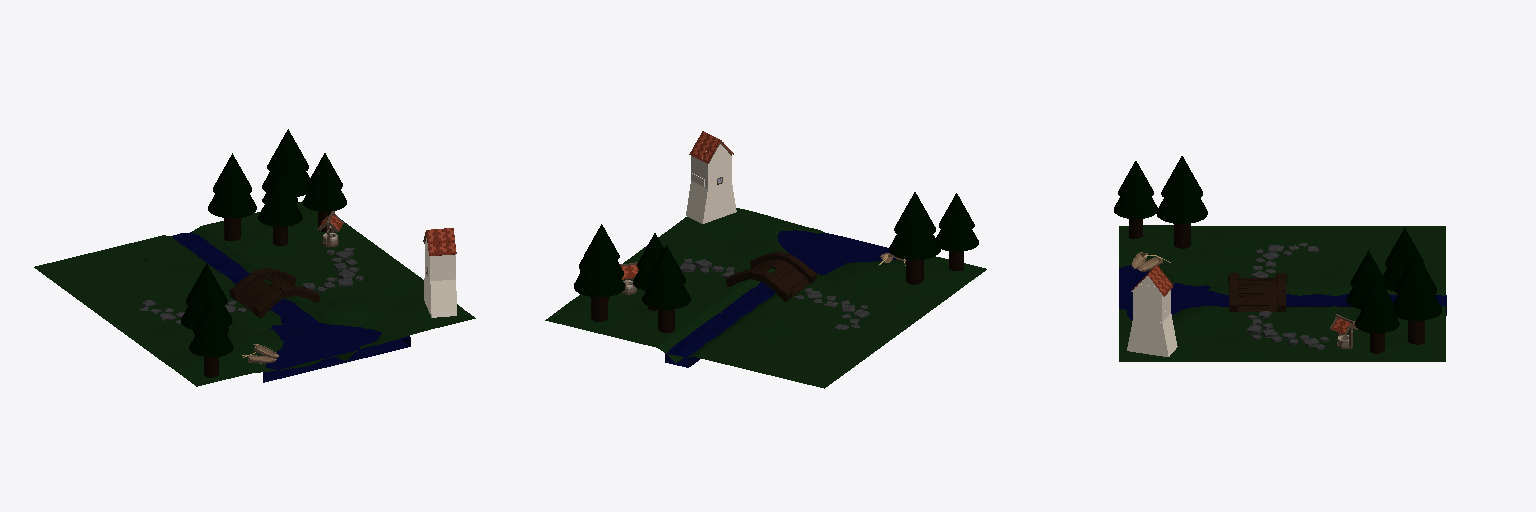
Rendered from hakoniwa.obj.
3 renders of one model, left to right at view 1: azimuth 30°, elevation 25°; view 2: azimuth 150°, elevation 25°; view 3: azimuth 270°, elevation 25°, orthographic.
Parts seen in each view (by area): view 1: pPlane1, pCube1, bridge:Mesh, fusya2:group2 group12 fusya2:Stucco_Block:object1, group4 pCone2, group11 pCone2, group2 pCone2, group2 pCone1, group8 pCone2, group10 pCone2, group3 pCone2, group3 pCone1 (+3 smaller); view 2: pPlane1, pCube1, bridge:Mesh, fusya2:group2 group12 fusya2:Stucco_Block:object1, group4 pCone2, group11 pCone2, group11 pCone1, group4 pCone1, group2 pCone2, group2 pCone1, group10 pCone2, fusya2:group2 group12 fusya2:object1 (+2 smaller); view 3: pPlane1, pCube1, bridge:Mesh, fusya2:group2 group12 fusya2:Stucco_Block:object1, group4 pCone2, group11 pCone2, group11 pCone1, group4 pCone1, group8 pCone2, group10 pCone2, group2 pCone2, group10 pCone1 (+3 smaller).
Boxes of the visible parts, <box> form: pPlane1: <box>34,201,475,386</box>; pCube1: <box>172,232,410,382</box>; bridge:Mesh: <box>229,268,319,317</box>; fusya2:group2 group12 fusya2:Stucco_Block:object1: <box>424,270,456,317</box>; group4 pCone2: <box>267,129,308,175</box>; group11 pCone2: <box>186,263,227,309</box>; group2 pCone2: <box>213,153,251,197</box>; group2 pCone1: <box>208,194,256,217</box>; group8 pCone2: <box>307,153,342,192</box>; group10 pCone2: <box>193,298,228,338</box>; group3 pCone2: <box>262,168,297,207</box>; group3 pCone1: <box>258,205,302,226</box>; pPlane1: <box>545,208,986,388</box>; pCube1: <box>665,230,896,367</box>; bridge:Mesh: <box>726,251,816,301</box>; fusya2:group2 group12 fusya2:Stucco_Block:object1: <box>686,180,736,223</box>; group4 pCone2: <box>579,229,620,275</box>; group11 pCone2: <box>894,192,935,237</box>; group11 pCone1: <box>889,234,940,259</box>; group4 pCone1: <box>574,271,625,296</box>; group2 pCone2: <box>647,245,685,288</box>; group2 pCone1: <box>642,285,690,309</box>; group10 pCone2: <box>939,193,974,232</box>; fusya2:group2 group12 fusya2:object1: <box>691,154,731,180</box>; pPlane1: <box>1119,225,1445,361</box>; pCube1: <box>1119,265,1446,319</box>; bridge:Mesh: <box>1228,273,1286,311</box>; fusya2:group2 group12 fusya2:Stucco_Block:object1: <box>1127,313,1177,356</box>; group4 pCone2: <box>1395,252,1436,298</box>; group11 pCone2: <box>1161,156,1202,201</box>; group11 pCone1: <box>1156,198,1207,223</box>; group4 pCone1: <box>1393,295,1441,320</box>; group8 pCone2: <box>1359,274,1394,314</box>; group10 pCone2: <box>1118,161,1153,199</box>; group2 pCone2: <box>1385,228,1424,271</box>; group10 pCone1: <box>1114,197,1157,218</box>.
Bounding box in the file's own units: 28.73 × 10.4 × 29.62.